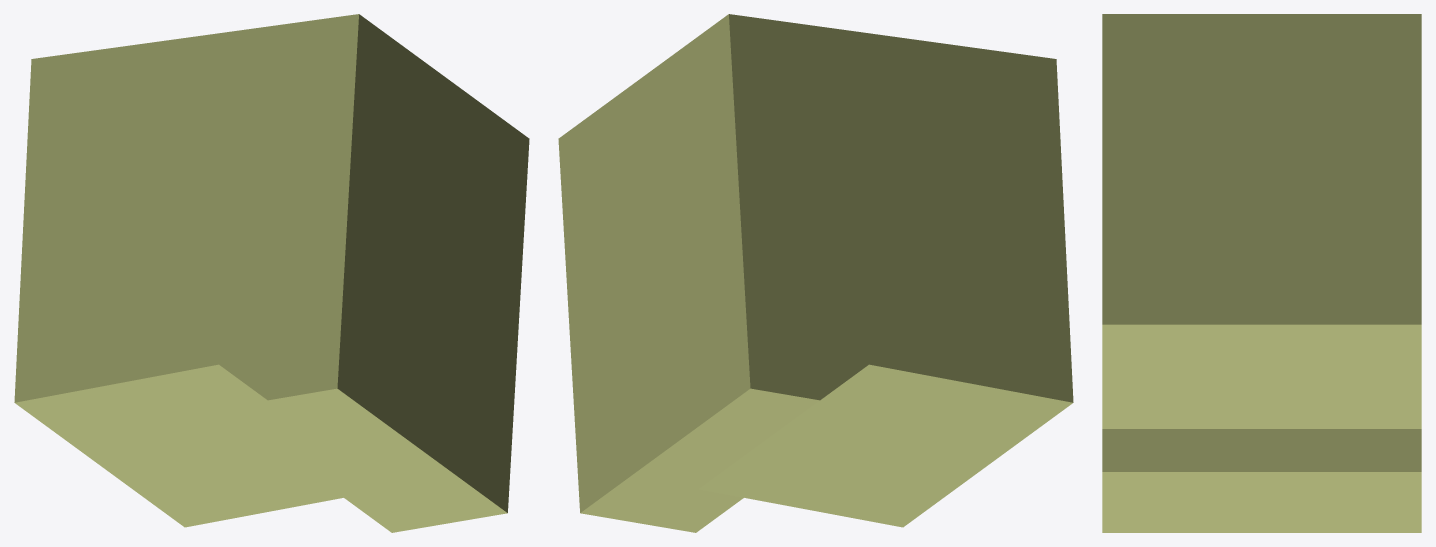
3 views of the same model, side by side, from view 1: azimuth 30°, elevation 25°; view 2: azimuth 150°, elevation 25°; view 3: azimuth 270°, elevation 25° (orthographic). The views are drawn at different scales.
Parts seen in each view (by area): view 1: 0_2_3_2_1_2_0_3_2_3; view 2: 0_2_3_2_1_2_0_3_2_3; view 3: 0_2_3_2_1_2_0_3_2_3.
Part boxes in pixels (box(x1,y1,x2,y2)): 0_2_3_2_1_2_0_3_2_3: box(14, 14, 529, 532); 0_2_3_2_1_2_0_3_2_3: box(558, 14, 1073, 532); 0_2_3_2_1_2_0_3_2_3: box(1102, 14, 1421, 532).
Size of the model in its own units: 10.51 by 11.78 by 9.
